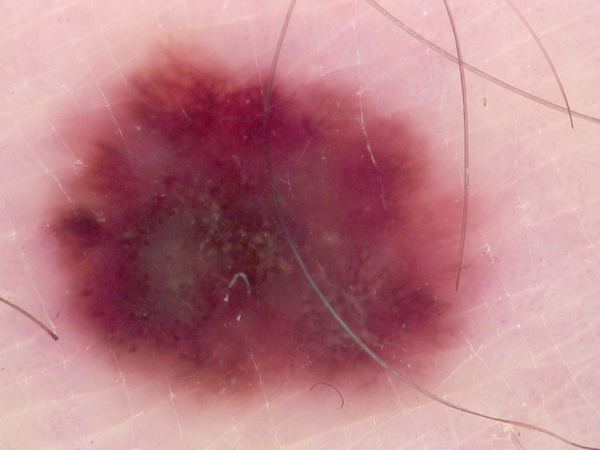Detected Lesion: (46, 59, 461, 405)
